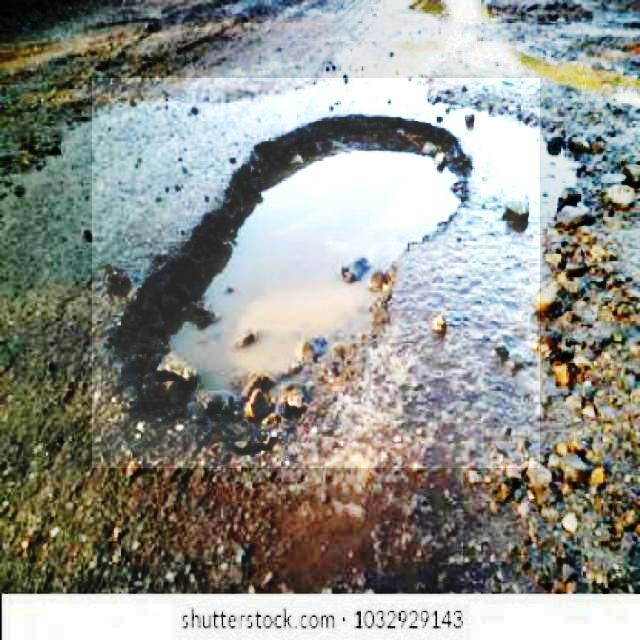pothole: (92, 78, 540, 468)
